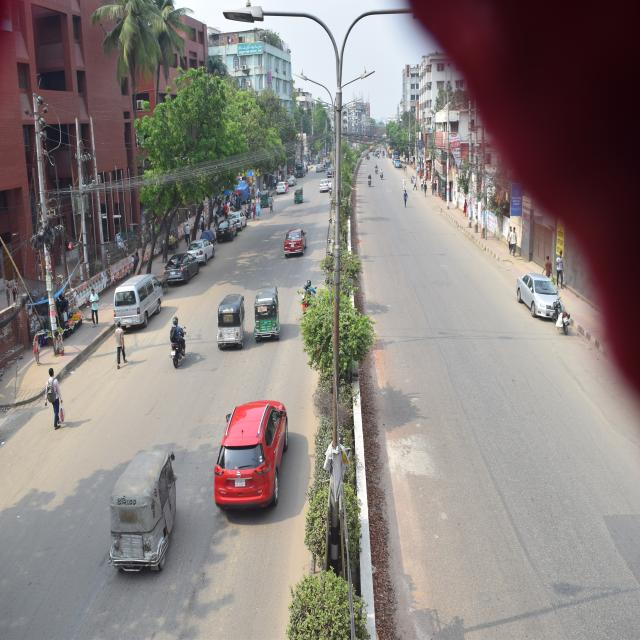car: (218, 383, 280, 511), (509, 269, 560, 322), (161, 252, 198, 291), (281, 229, 308, 274), (188, 239, 214, 264), (229, 200, 246, 233), (215, 214, 228, 238), (277, 174, 287, 195), (316, 176, 326, 192)
microbus: (112, 270, 174, 334)
motorbike: (165, 305, 192, 370), (547, 292, 574, 331), (299, 270, 322, 312), (367, 167, 373, 200), (378, 168, 386, 186)
